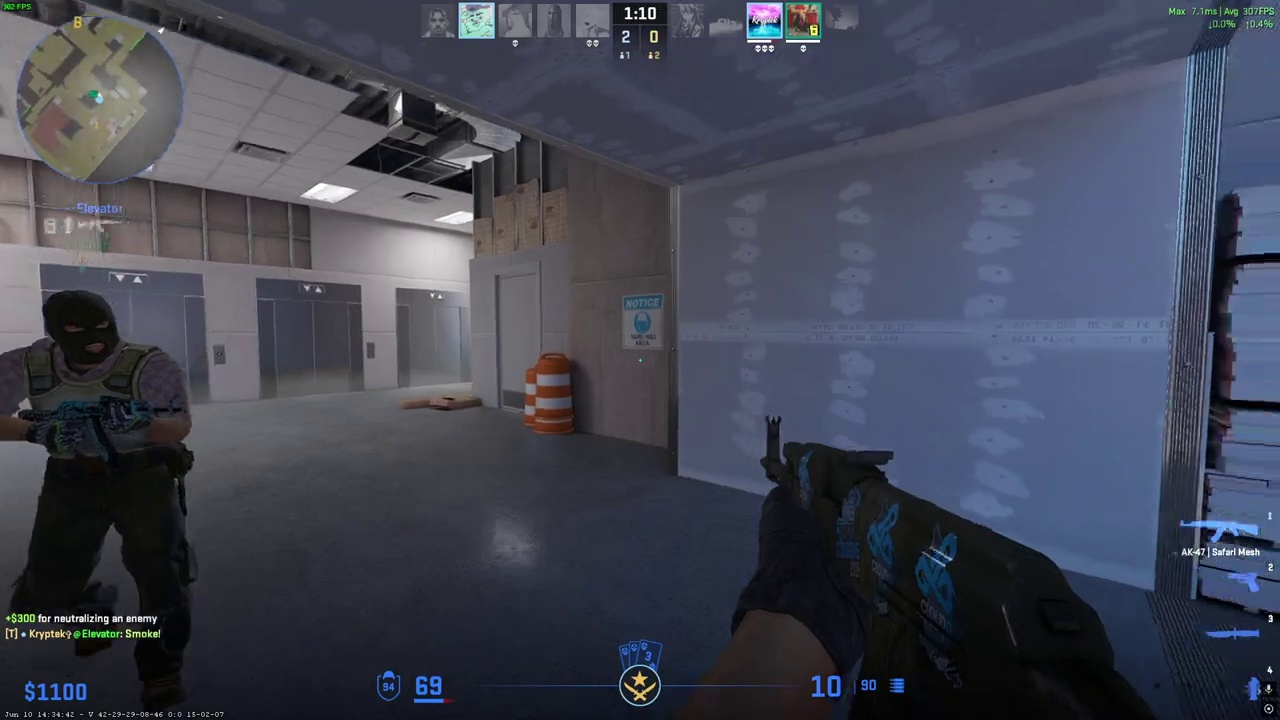Terrorist: (2, 288, 200, 713)
